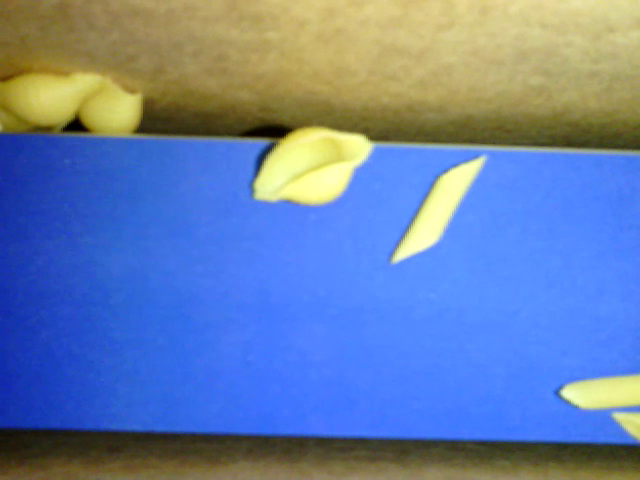penne: (392, 156, 485, 266), (559, 377, 639, 407), (610, 410, 639, 440)
shell: (250, 122, 377, 204), (1, 73, 108, 127), (74, 68, 150, 136), (1, 106, 74, 132)
